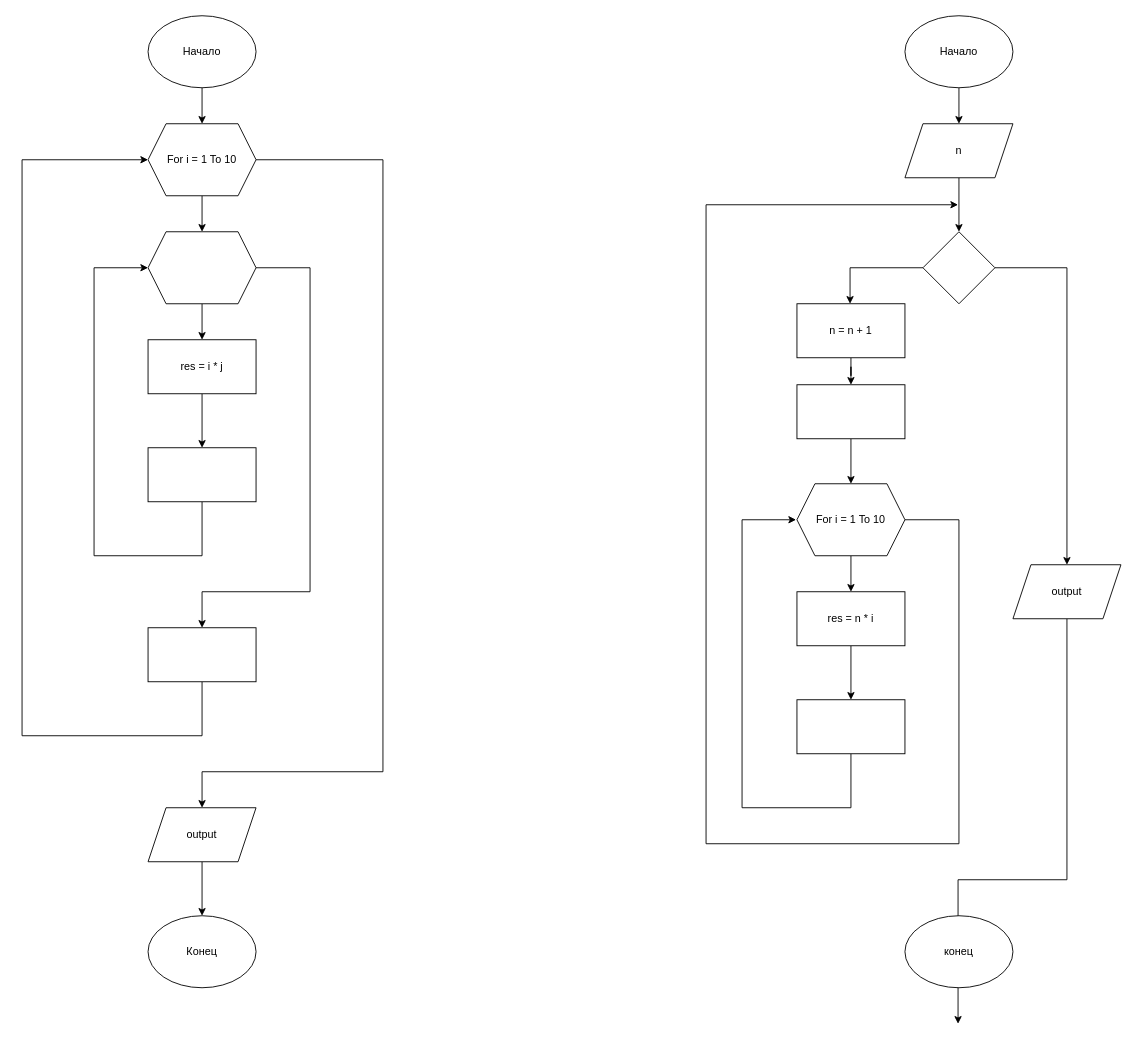
This 1137x1047 diagram has some shape labels left out. The centre of each missing label's shape, as x and y in pixels:
Do While n < 9: [958,267]
For j = 2 To 9: [201,267]
output = " ": [850,411]
output = output & (n & " *" & i & " =" & res & vbNewLine): [850,726]
output = output & j & "*" & i & "=" & res & vbTab: [201,474]
output = output & vbNewLine: [201,654]
